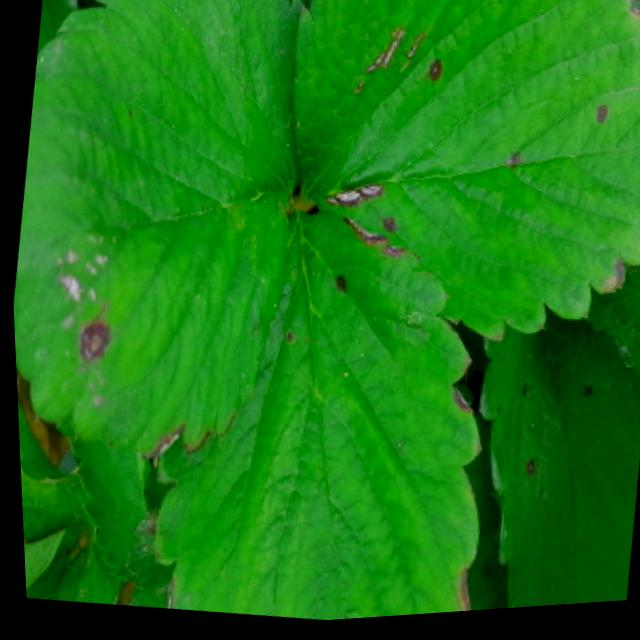Leaf Spot: (147, 209, 479, 624), (10, 0, 302, 461), (288, 0, 640, 349), (472, 312, 640, 615)
